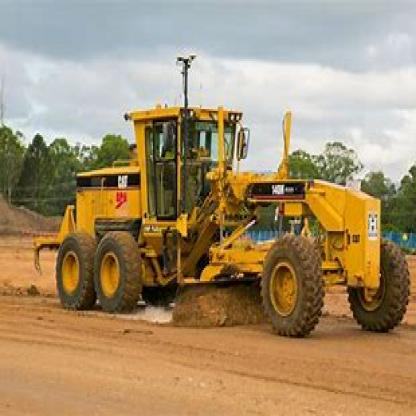bull_dozer/loader/grader: (31, 78, 415, 340)
